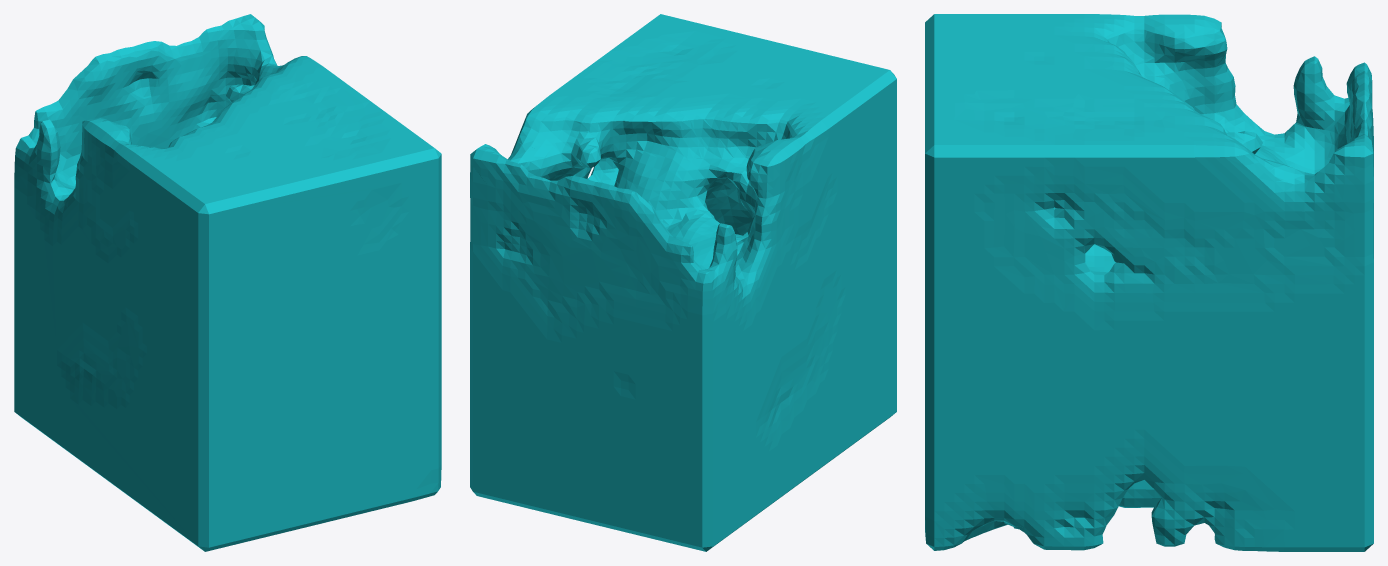
3 views of the same model, side by side, from view 1: azimuth 30°, elevation 25°; view 2: azimuth 150°, elevation 25°; view 3: azimuth 270°, elevation 25° (orthographic). The views are drawn at different scales.
Parts seen in each view (by area): view 1: Liquid_Domain; view 2: Liquid_Domain; view 3: Liquid_Domain.
Part boxes in pixels (box(x1,y1,x2,y2)): Liquid_Domain: box(14, 14, 441, 551); Liquid_Domain: box(470, 14, 896, 551); Liquid_Domain: box(925, 14, 1373, 551).
Bounding box in the file's own units: 79.09 × 108 × 108.
